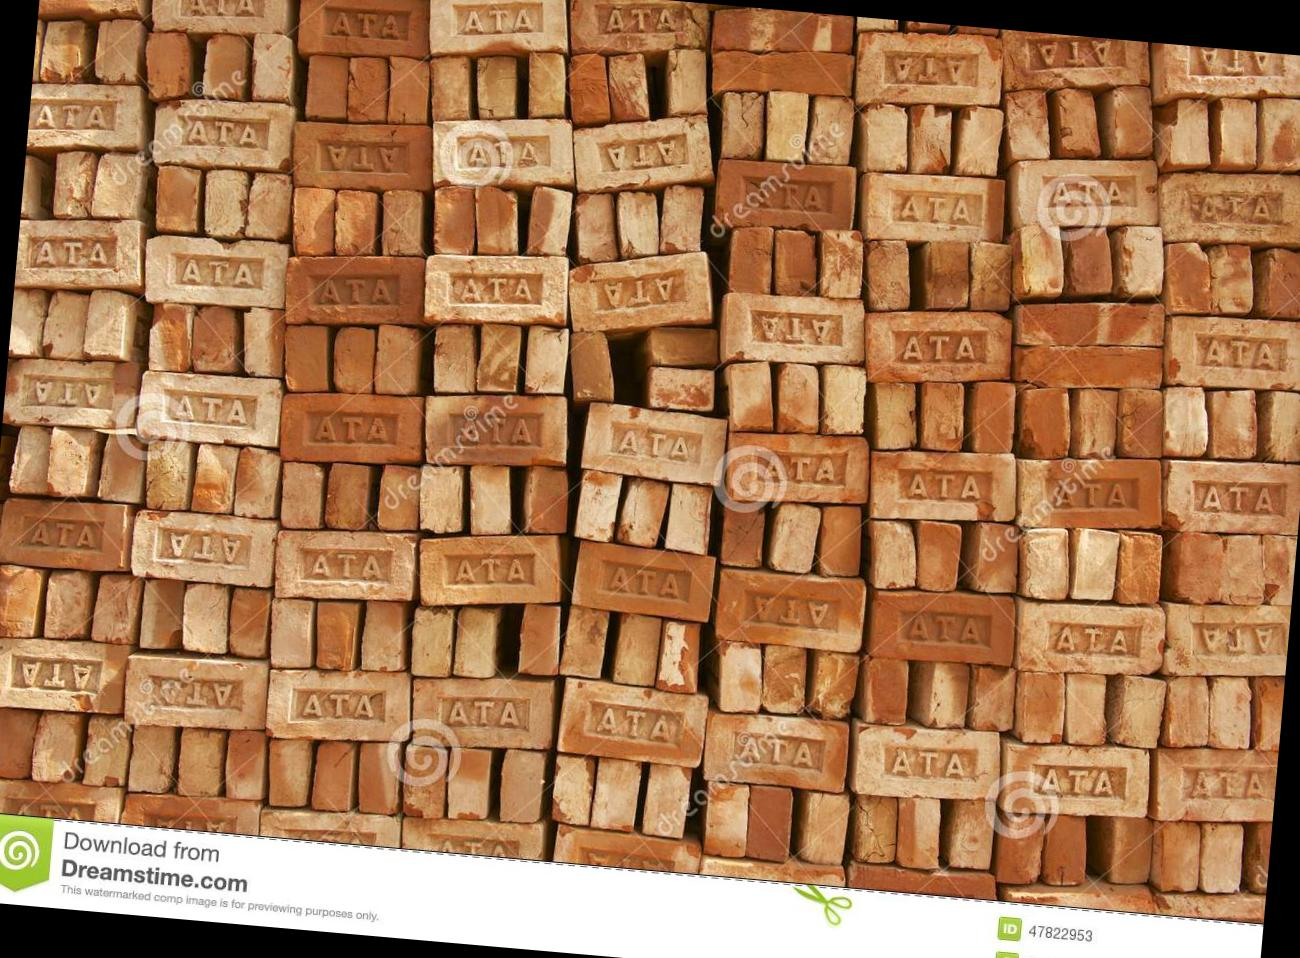brick: (565, 239, 718, 340), (569, 105, 719, 202), (853, 22, 1005, 115), (861, 302, 1015, 393), (415, 524, 566, 616), (556, 677, 710, 767), (429, 108, 580, 198), (1014, 448, 1167, 537), (421, 384, 571, 473), (867, 442, 1019, 530), (264, 660, 415, 749), (1016, 595, 1168, 682), (277, 384, 425, 471), (1015, 148, 1163, 236), (409, 668, 556, 756), (715, 568, 867, 653), (282, 246, 427, 335), (422, 244, 571, 330), (724, 426, 872, 511), (1004, 737, 1153, 822), (1159, 164, 1300, 252), (274, 522, 418, 609), (702, 710, 850, 794), (121, 651, 269, 735), (855, 720, 1003, 804), (581, 401, 728, 485), (290, 114, 436, 197), (724, 287, 868, 370), (142, 231, 290, 313), (870, 586, 1017, 667), (136, 367, 282, 450), (714, 155, 858, 237), (571, 540, 716, 622), (1163, 454, 1300, 540), (1163, 595, 1292, 684), (130, 509, 278, 588), (151, 93, 295, 174), (1152, 740, 1279, 830), (866, 170, 1007, 250), (14, 211, 145, 298), (3, 350, 140, 433), (1167, 310, 1300, 395), (997, 29, 1153, 100), (0, 633, 128, 716), (0, 493, 127, 571), (426, 0, 573, 66), (1016, 291, 1168, 354), (26, 77, 143, 155), (567, 0, 710, 64), (1014, 336, 1164, 396), (711, 42, 854, 103), (297, 0, 434, 63), (1160, 43, 1300, 104), (712, 4, 855, 61), (553, 823, 702, 874), (401, 813, 545, 860), (121, 789, 261, 835), (259, 805, 401, 847), (0, 775, 122, 823), (150, 0, 289, 40), (1016, 385, 1073, 459), (1015, 221, 1068, 298), (1208, 387, 1261, 462), (1001, 87, 1055, 161), (862, 237, 914, 312), (1160, 385, 1212, 458), (726, 358, 778, 432), (1163, 673, 1213, 749), (567, 330, 620, 403), (589, 758, 642, 831), (702, 781, 752, 858), (604, 50, 655, 124), (1205, 241, 1256, 316), (858, 101, 910, 173), (1064, 225, 1116, 297), (1019, 669, 1069, 745), (745, 785, 794, 861), (471, 185, 523, 257), (1114, 674, 1166, 747), (141, 29, 192, 103), (1163, 240, 1213, 314), (612, 612, 661, 686), (643, 763, 692, 838), (565, 51, 615, 126), (715, 642, 766, 714), (465, 464, 516, 537), (770, 502, 821, 574), (1219, 533, 1269, 607), (1176, 531, 1225, 605), (559, 605, 609, 678), (859, 655, 910, 726), (572, 191, 621, 265), (926, 237, 974, 312), (498, 749, 546, 824), (355, 740, 404, 815), (1051, 88, 1104, 155), (869, 519, 919, 591), (181, 581, 231, 653), (143, 439, 193, 512), (31, 711, 81, 783), (967, 664, 1018, 734), (1115, 531, 1164, 605), (401, 745, 449, 819), (426, 52, 476, 123), (417, 463, 467, 534), (817, 227, 866, 299), (373, 324, 423, 396), (871, 380, 920, 451), (818, 504, 865, 578), (281, 324, 332, 393), (617, 478, 668, 547), (574, 469, 623, 542), (1024, 528, 1073, 601), (267, 598, 316, 670), (896, 796, 945, 869), (1207, 674, 1254, 750), (1072, 528, 1119, 602), (139, 577, 187, 651), (1063, 672, 1110, 746), (203, 168, 252, 238), (43, 569, 93, 640), (913, 520, 962, 592), (807, 650, 858, 719), (956, 105, 1003, 178), (431, 183, 478, 255), (289, 186, 336, 258), (775, 362, 823, 435), (445, 747, 493, 820), (614, 190, 663, 259), (727, 224, 776, 294), (663, 46, 712, 117), (127, 723, 176, 793), (967, 240, 1013, 314), (1120, 387, 1167, 460), (1199, 821, 1245, 894), (190, 306, 240, 374), (906, 104, 954, 176), (432, 323, 479, 395), (821, 364, 868, 436), (234, 446, 282, 518), (997, 814, 1045, 885), (92, 574, 141, 643), (153, 165, 202, 234), (1110, 85, 1157, 157), (1168, 97, 1216, 167), (380, 188, 427, 258), (239, 306, 287, 377), (84, 717, 131, 787), (176, 728, 223, 799), (264, 737, 312, 808), (1073, 388, 1118, 461), (1158, 821, 1203, 894), (1045, 814, 1090, 887), (94, 16, 143, 84), (475, 322, 522, 394), (657, 621, 703, 693), (453, 607, 500, 678), (760, 645, 808, 714), (949, 800, 996, 869), (659, 184, 705, 256), (518, 604, 563, 676), (361, 600, 407, 672), (804, 792, 850, 865), (93, 152, 142, 219), (762, 90, 808, 161), (719, 90, 765, 161), (324, 462, 372, 530), (973, 381, 1017, 454), (333, 190, 381, 258), (147, 303, 195, 371), (647, 364, 716, 412), (97, 432, 144, 501), (278, 461, 325, 530), (920, 381, 966, 452), (410, 606, 455, 677), (0, 564, 43, 639), (385, 55, 431, 124), (191, 444, 237, 514), (976, 522, 1020, 595), (808, 95, 854, 166), (666, 484, 712, 554), (1122, 224, 1166, 298), (41, 291, 88, 359), (311, 740, 355, 812), (1258, 96, 1300, 171), (524, 325, 569, 395), (550, 755, 595, 825), (854, 794, 899, 864), (771, 229, 819, 296), (529, 186, 572, 258), (649, 324, 720, 368), (46, 427, 91, 498), (249, 31, 294, 101), (473, 55, 520, 121), (332, 325, 376, 395), (1109, 816, 1154, 885), (313, 600, 356, 670), (223, 729, 266, 800), (245, 173, 292, 238), (203, 33, 248, 100), (227, 588, 270, 657), (345, 56, 390, 123), (378, 464, 423, 532), (84, 288, 126, 358), (526, 465, 569, 534), (525, 51, 568, 120), (9, 424, 51, 494), (40, 18, 86, 83), (1216, 98, 1260, 165), (305, 54, 349, 118), (927, 661, 969, 729), (1259, 534, 1298, 605), (0, 707, 38, 778), (53, 150, 92, 219), (9, 287, 46, 356), (721, 510, 765, 568), (1265, 247, 1300, 318), (1267, 390, 1300, 463), (1252, 677, 1285, 751), (38, 0, 144, 21)
